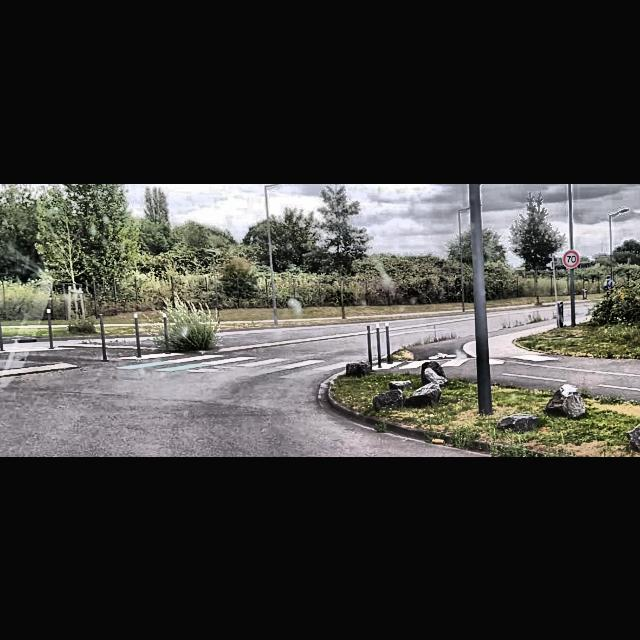speed_70: (564, 250, 580, 266)
